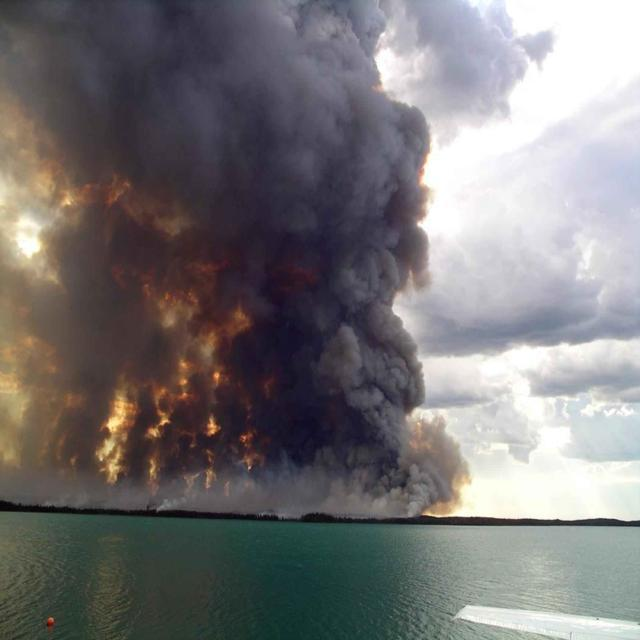Smoke: (105, 0, 615, 514), (42, 13, 386, 474), (0, 0, 195, 509)
